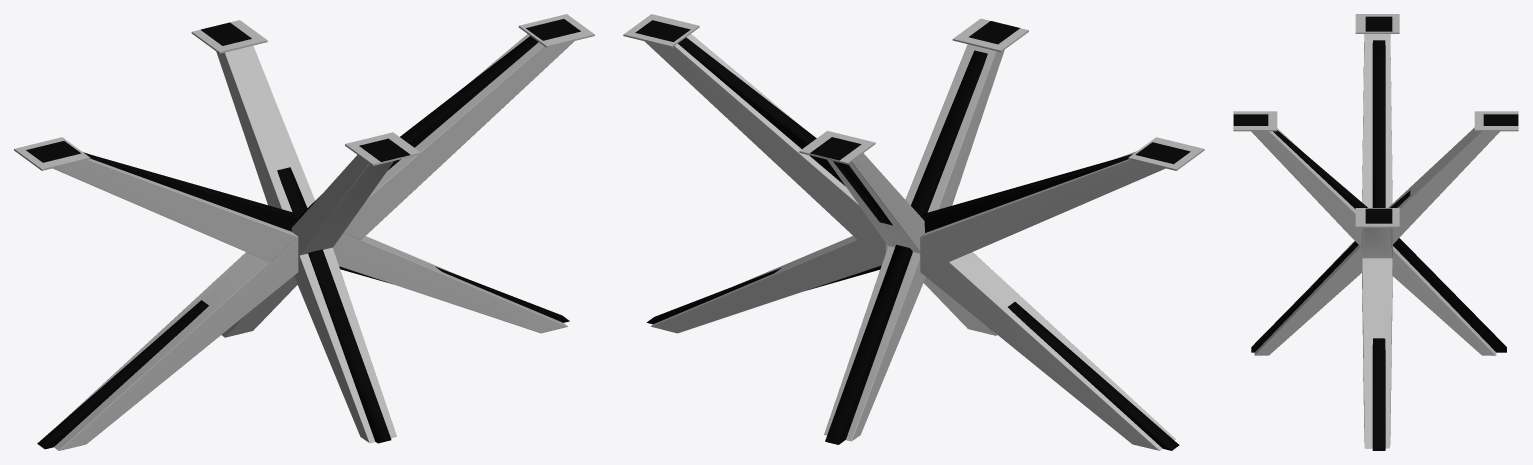
The model's file is Konische.glb.
3 renders of one model, left to right at view 1: azimuth 30°, elevation 25°; view 2: azimuth 150°, elevation 25°; view 3: azimuth 270°, elevation 25°, orthographic. The views are drawn at different scales.
Parts seen in each view (by area): view 1: Oval_Konische_Spider_Wood_LEG_ALL_SIZE, Rectangle_Konische_Spider_Metal_LEG_ALL_SIZE, Rectangle_Konische_Spider_Wood_LEG_ALL_SIZE, Verbaan_Konische_Spider_Metal_LEG_ALL_SIZE, Verbaan_Konische_Spider_Wood_LEG_ALL_SIZE; view 2: Rectangle_Konische_Spider_Wood_LEG_ALL_SIZE, Verbaan_Konische_Spider_Wood_LEG_ALL_SIZE, Rectangle_Konische_Spider_Metal_LEG_ALL_SIZE, Verbaan_Konische_Spider_Metal_LEG_ALL_SIZE, Oval_Konische_Spider_Wood_LEG_ALL_SIZE; view 3: Rectangle_Konische_Spider_Wood_LEG_ALL_SIZE, Oval_Konische_Spider_Wood_LEG_ALL_SIZE, Rectangle_Konische_Spider_Metal_LEG_ALL_SIZE, Verbaan_Konische_Spider_Wood_LEG_ALL_SIZE, Verbaan_Konische_Spider_Metal_LEG_ALL_SIZE.
Part boxes in pixels (x1=…): Oval_Konische_Spider_Wood_LEG_ALL_SIZE: x1=29, y1=31, x2=594, y2=450; Rectangle_Konische_Spider_Metal_LEG_ALL_SIZE: x1=26, y1=19, x2=580, y2=445; Rectangle_Konische_Spider_Wood_LEG_ALL_SIZE: x1=14, y1=14, x2=594, y2=437; Verbaan_Konische_Spider_Metal_LEG_ALL_SIZE: x1=26, y1=28, x2=577, y2=449; Verbaan_Konische_Spider_Wood_LEG_ALL_SIZE: x1=14, y1=26, x2=546, y2=450; Rectangle_Konische_Spider_Wood_LEG_ALL_SIZE: x1=623, y1=14, x2=1203, y2=450; Verbaan_Konische_Spider_Wood_LEG_ALL_SIZE: x1=623, y1=26, x2=1176, y2=450; Rectangle_Konische_Spider_Metal_LEG_ALL_SIZE: x1=635, y1=20, x2=1190, y2=450; Verbaan_Konische_Spider_Metal_LEG_ALL_SIZE: x1=636, y1=30, x2=1189, y2=450; Oval_Konische_Spider_Wood_LEG_ALL_SIZE: x1=651, y1=14, x2=1204, y2=449; Rectangle_Konische_Spider_Wood_LEG_ALL_SIZE: x1=1233, y1=14, x2=1518, y2=432; Oval_Konische_Spider_Wood_LEG_ALL_SIZE: x1=1235, y1=33, x2=1482, y2=447; Rectangle_Konische_Spider_Metal_LEG_ALL_SIZE: x1=1233, y1=16, x2=1518, y2=450; Verbaan_Konische_Spider_Wood_LEG_ALL_SIZE: x1=1233, y1=32, x2=1518, y2=448; Verbaan_Konische_Spider_Metal_LEG_ALL_SIZE: x1=1247, y1=31, x2=1517, y2=450.
Bounding box in the file's own units: 1.43 × 0.7209 × 0.8113.
Materials: 14 (14 with a texture image).
